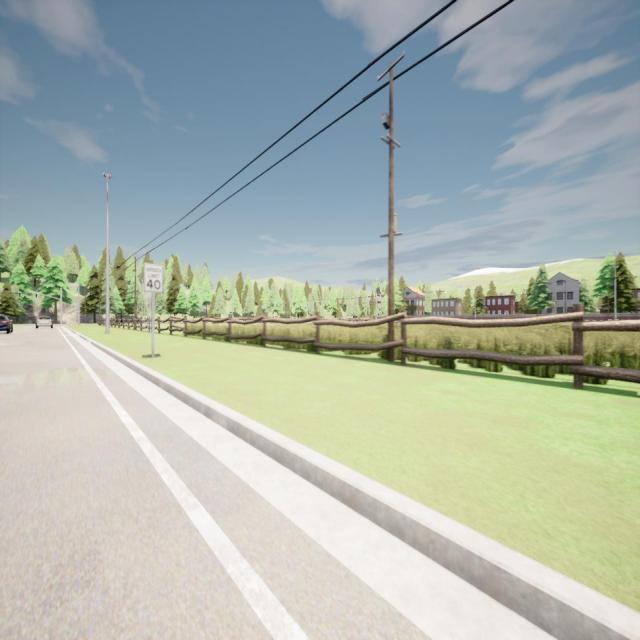Traffic_Signs: (144, 264, 162, 290)
Vehicle: (35, 315, 53, 329), (0, 314, 13, 333)
traffic_light: (19, 291, 21, 297), (35, 293, 37, 298)
